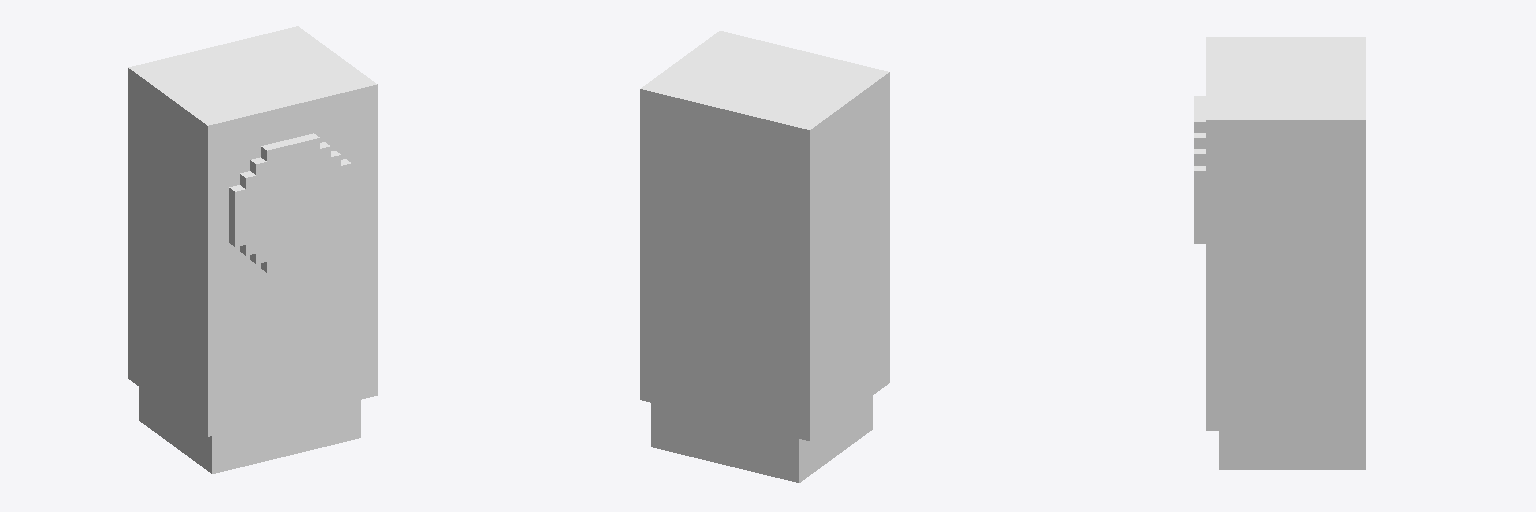
Rendered from VendingPep.obj.
The picture shows the model from 3 angles: view 1: azimuth 30°, elevation 25°; view 2: azimuth 150°, elevation 25°; view 3: azimuth 270°, elevation 25°; orthographic projection.
Visible parts, largest first — view 1: object 1; view 2: object 1; view 3: object 1.
Part boxes in pixels (left/top/right/bottom): object 1: left=128, top=26, right=377, bottom=473; object 1: left=640, top=31, right=889, bottom=482; object 1: left=1194, top=37, right=1365, bottom=469.
Bounding box in the file's own units: 1.6 × 3.2 × 1.4.